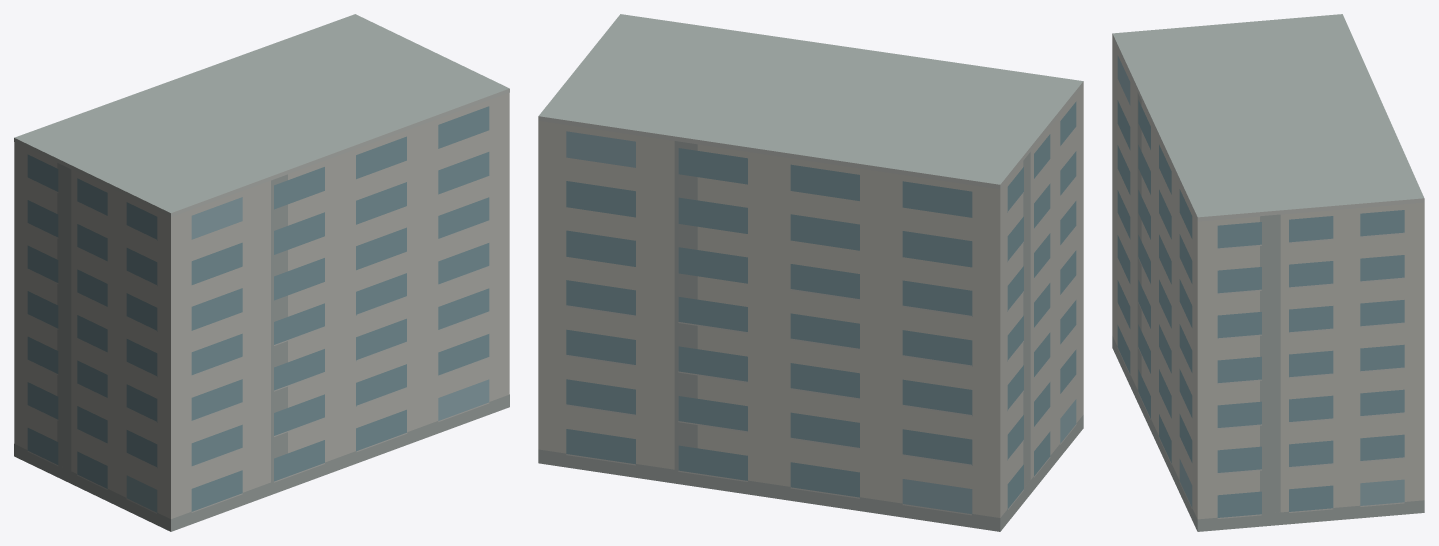
The model's file is survey-upis-32918703.glb.
3 renders of one model, left to right at view 1: azimuth 30°, elevation 25°; view 2: azimuth 150°, elevation 25°; view 3: azimuth 270°, elevation 25°, orthographic. The views are drawn at different scales.
Visible parts, largest first — view 1: survey-upis-32918703.tmp; view 2: survey-upis-32918703.tmp; view 3: survey-upis-32918703.tmp.
Boxes of the visible parts, left/top/right/bottom form: survey-upis-32918703.tmp: left=14, top=14, right=509, bottom=531; survey-upis-32918703.tmp: left=538, top=14, right=1083, bottom=531; survey-upis-32918703.tmp: left=1112, top=14, right=1424, bottom=531.
Size of the model in its own units: 25.94 by 18.7 by 16.82.
